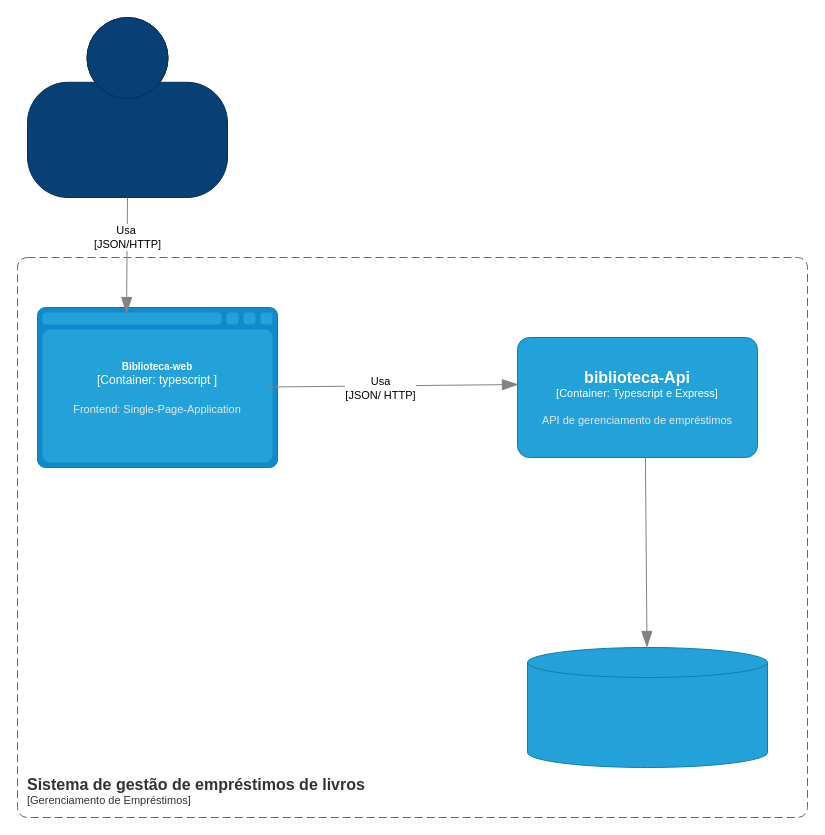
Image size: 825x835. Some labels were removed from this diagram. The centre of each missing label's shape, as x and y in pixels:
"Biblioteca Repository [Container: mySql] Gestão de empréstimos" goes at point 647,707.
"Usuário Biblioteca [Person] Colaborador da biblioteca" goes at point 127,107.
